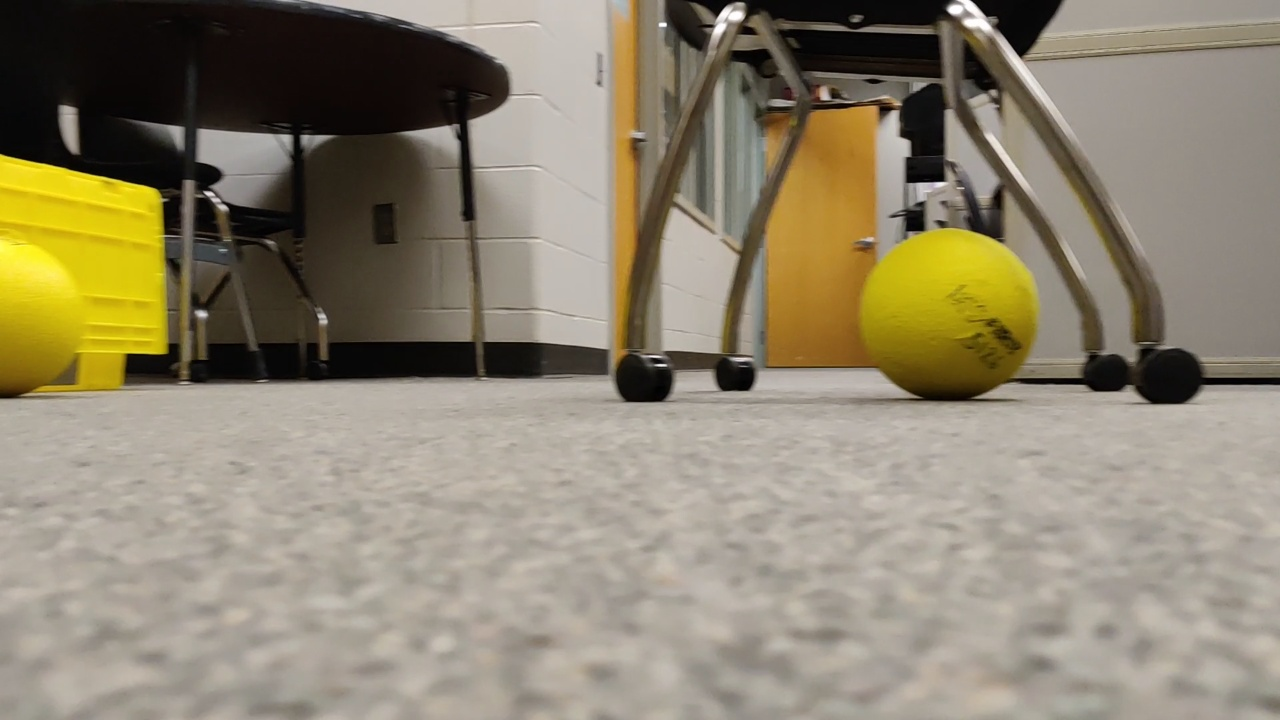Ball: (854, 228, 1060, 411), (1, 234, 79, 401)
